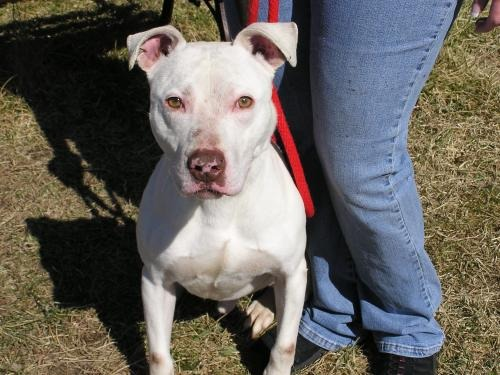dog: (126, 25, 311, 375)
